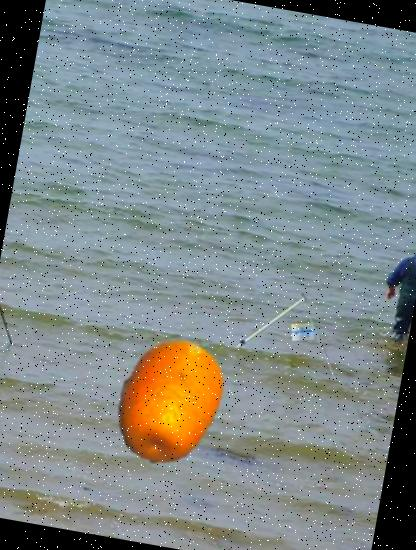Kumquats: (96, 327, 244, 475)
